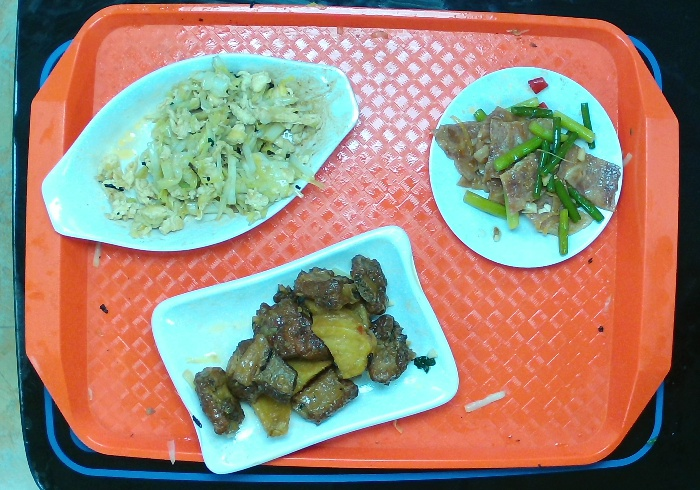RJxy-Si_Fang_Ao_Bian_Wan: (145, 226, 464, 486)
RJxy-Xiao_Yuan_Die: (431, 58, 629, 273)
RJxy-Yu_Pan: (35, 55, 365, 257)
